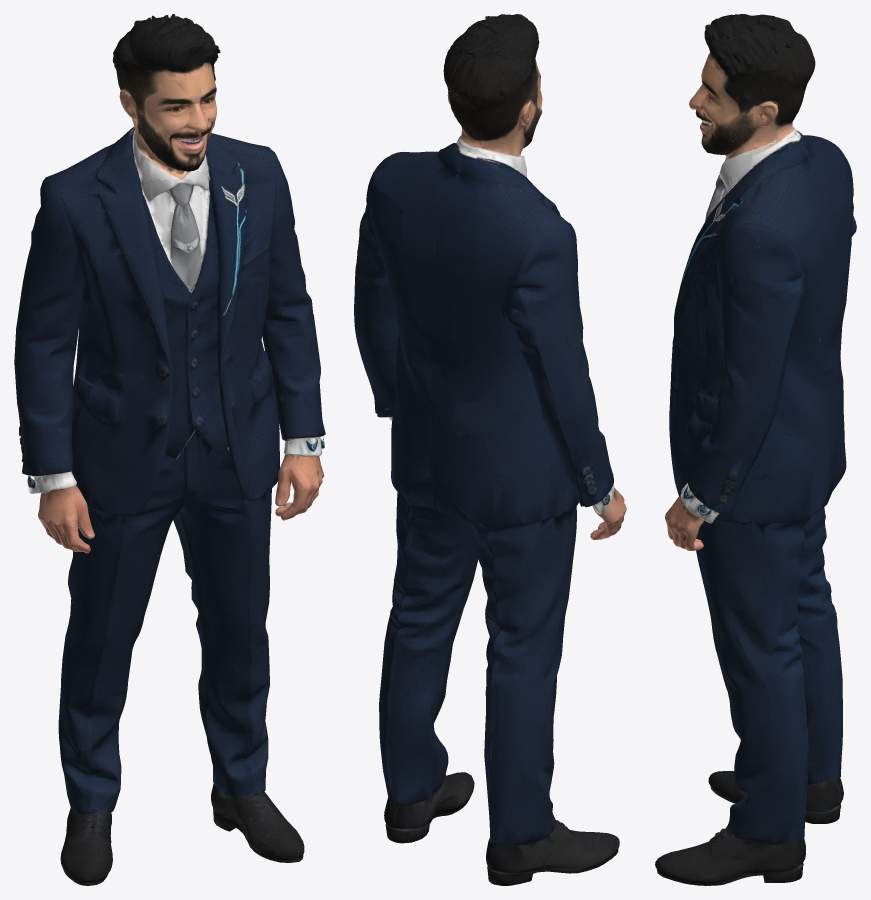
File: simon-riley.glb
3 renders of one model, left to right at view 1: azimuth 30°, elevation 25°; view 2: azimuth 150°, elevation 25°; view 3: azimuth 270°, elevation 25°, orthographic.
Parts seen in each view (by area): view 1: Mesh_0; view 2: Mesh_0; view 3: Mesh_0.
Part boxes in pixels (left/top/right/bottom): Mesh_0: left=14, top=14, right=325, bottom=885; Mesh_0: left=354, top=14, right=626, bottom=885; Mesh_0: left=655, top=14, right=856, bottom=885.
Size of the model in its own units: 0.6407 by 1.9 by 0.424.
Materials: 1 (1 with a texture image).
